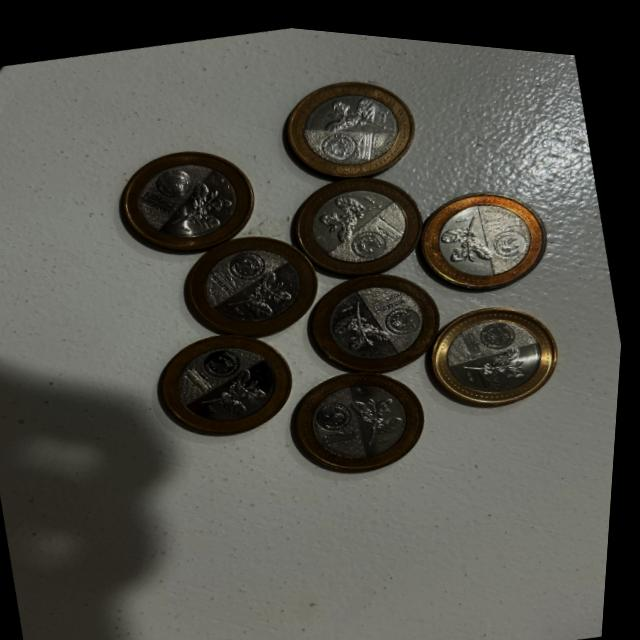20_New_Back: (453, 324, 547, 390), (202, 351, 280, 418)
